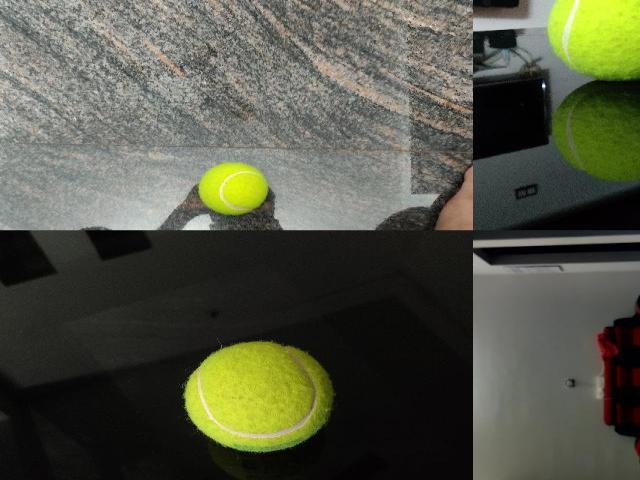tennis-ball: (184, 340, 334, 451), (552, 79, 639, 182), (547, 0, 639, 81), (198, 162, 268, 214)
